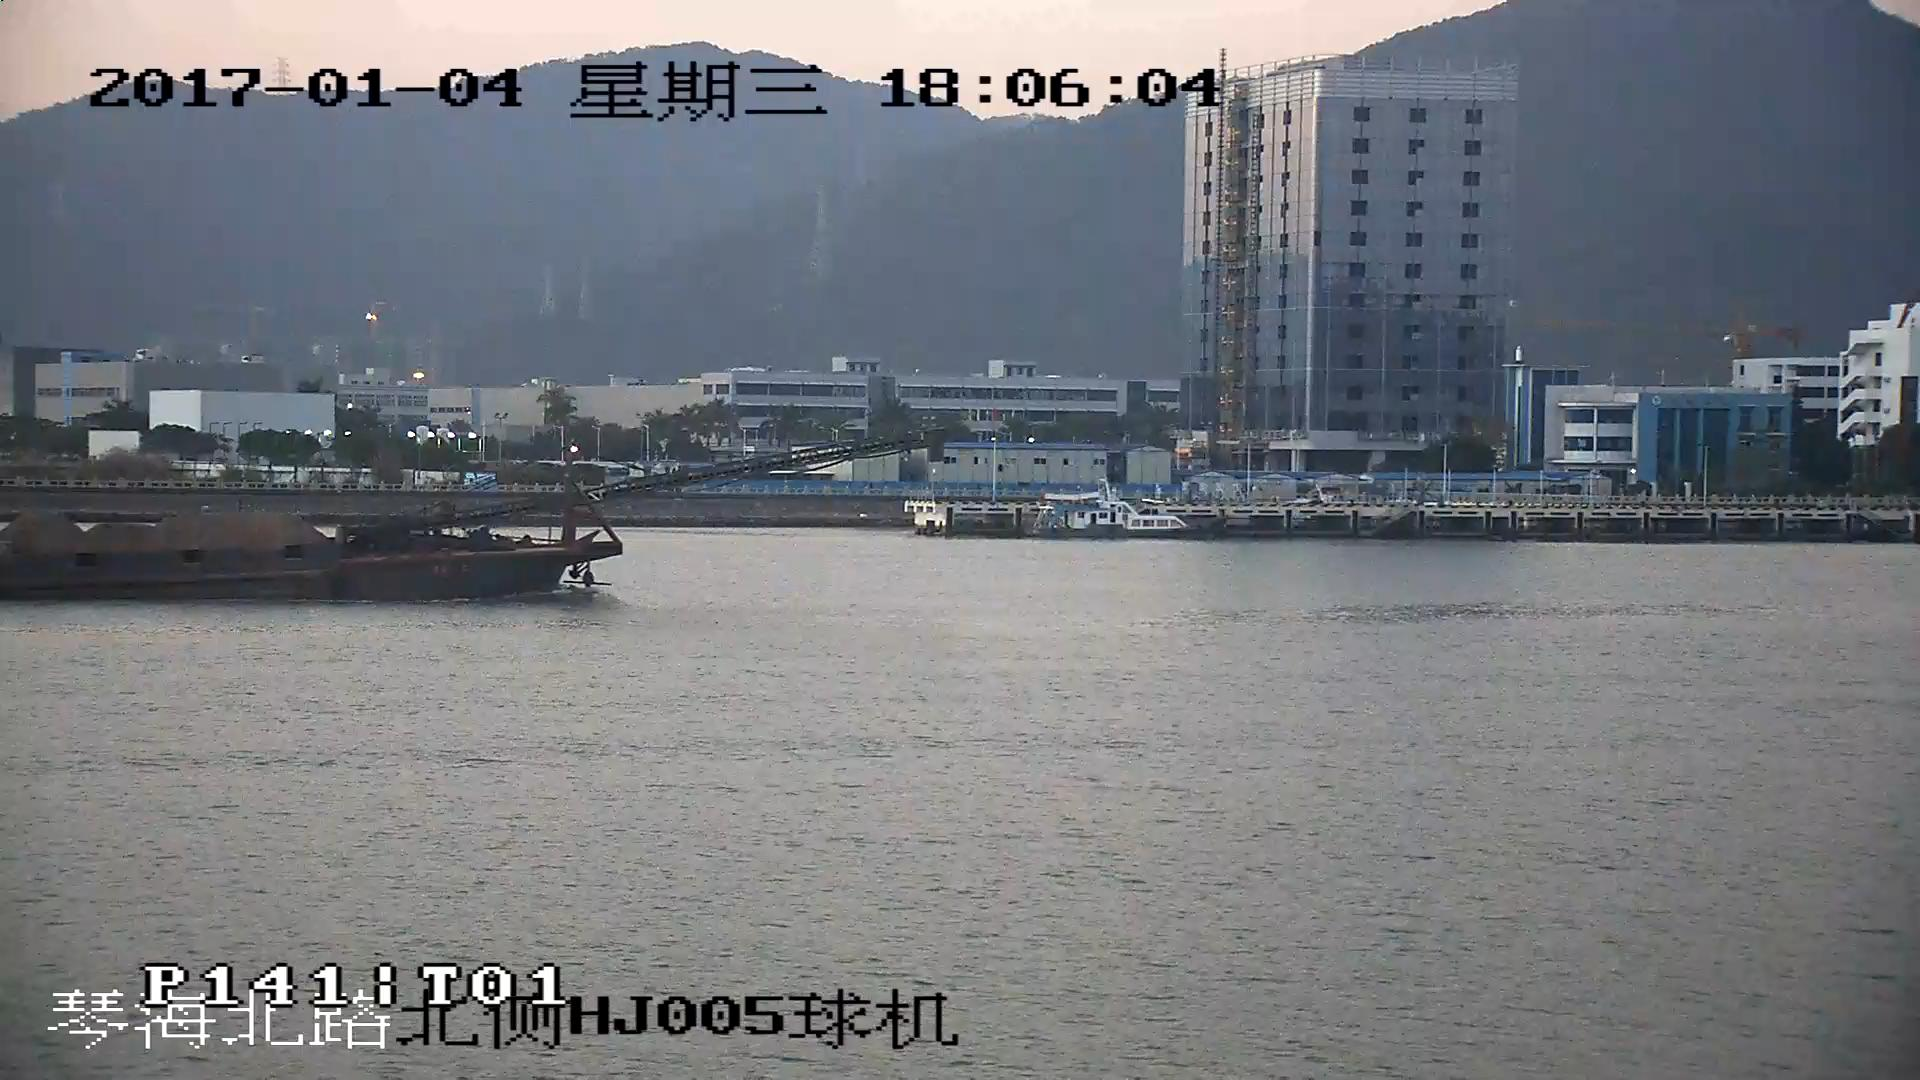ore carrier: (1, 437, 917, 605)
